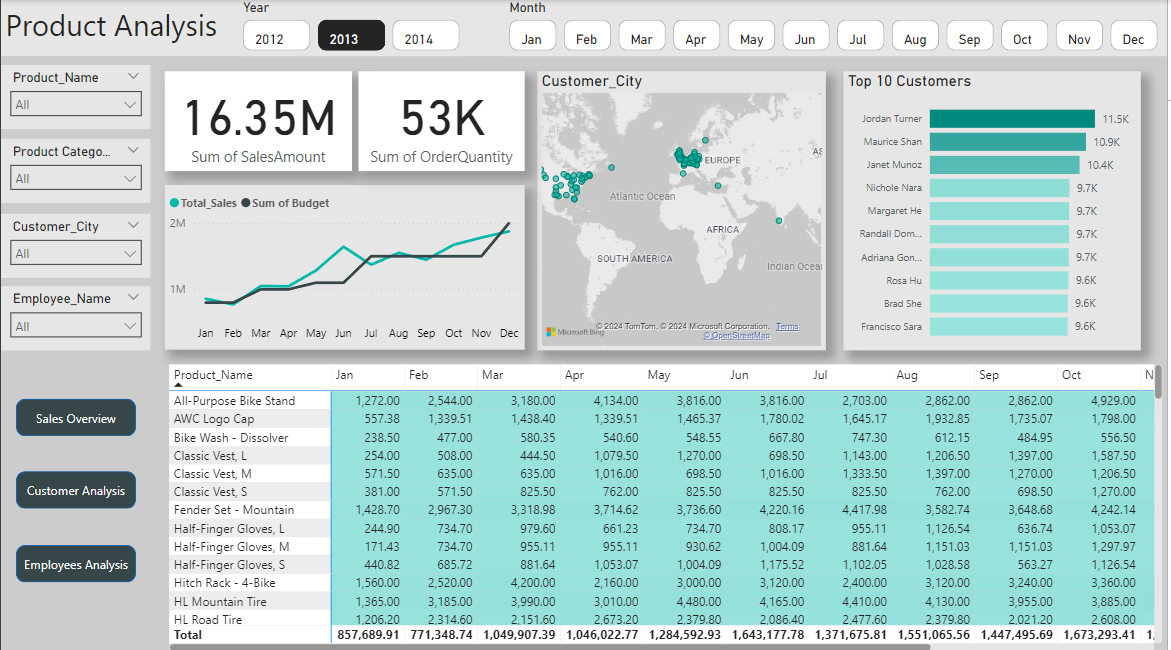

The page's visual inventory and layout, read from the dashboard file:
{"tool":"powerbi","page":{"name":"Product Analysis","canvas":[1280,720],"ordinal":1},"visuals":[{"type":"textbox","box":[0,0,1280,61.4],"z":0},{"type":"advancedSlicerVisual","fields":{"Values":["DIM_Date.Year"]},"box":[260.7,0,249.7,61.7],"z":1000},{"type":"advancedSlicerVisual","fields":{"Values":["Sorted_Months.Month"]},"box":[553,0,727.3,61.7],"z":2000},{"type":"slicer","fields":{"Values":["DIM_Products.Product_Name"]},"box":[0,71.4,164.3,70],"z":3000},{"type":"slicer","fields":{"Values":["DIM_Cusomers.Customer_City"]},"box":[0,234.3,164.3,70],"z":4000},{"type":"slicer","fields":{"Values":["DIM_Employees.Full_Name"]},"box":[0,314.3,164.3,70],"z":5000},{"type":"slicer","fields":{"Values":["DIM_Products.Category"]},"box":[0,152.9,164.3,70],"z":6000},{"type":"card","title":"Total Sales","fields":{"Values":["Sum(Fact_Internet_Sales.SalesAmount)"]},"box":[179.8,78.2,205.8,109.8],"z":7000},{"type":"clusteredBarChart","title":"Top 10 Customers","fields":{"Category":["DIM_Cusomers.Full_Name"],"Y":["Fact_Internet_Sales.Total_Sales"]},"box":[924.9,78.2,326.6,306],"z":8000},{"type":"map","fields":{"Category":["DIM_Cusomers.Customer_City"]},"box":[588.7,78.2,317,306],"z":9000},{"type":"lineChart","fields":{"Category":["Sorted_Months.Month"],"Y":["Fact_Internet_Sales.Total_Sales"],"Y2":["Sum(Budget.Budget)"]},"box":[179.8,203.1,395.2,181.1],"z":10000},{"type":"card","fields":{"Values":["Sum(Fact_Internet_Sales.OrderQuantity)"]},"box":[392.5,78.2,182.5,109.8],"z":11000},{"type":"pivotTable","fields":{"Rows":["DIM_Products.Product_Name"],"Columns":["Sorted_Months.Month"],"Values":["Fact_Internet_Sales.Total_Sales"]},"box":[179.8,395.2,1100.5,325.2],"z":12000},{"type":"shape","box":[16.5,437.7,131.7,41.2],"z":13000},{"type":"shape","box":[16.5,517.3,131.7,41.2],"z":14000},{"type":"shape","box":[16.5,598.3,131.7,41.2],"z":15000}]}

Visuals, with their boxes in screenshot pixels (x1, y1, x2, y2), scaled from the page's 1280x720 canvas onto the 1171x650 screenshot:
textbox: 0/0/1170/55
advancedSlicerVisual - DIM_Date.Year: 238/0/467/56
advancedSlicerVisual - Sorted_Months.Month: 506/0/1170/56
slicer - DIM_Products.Product_Name: 0/64/150/128
slicer - DIM_Cusomers.Customer_City: 0/212/150/275
slicer - DIM_Employees.Full_Name: 0/284/150/347
slicer - DIM_Products.Category: 0/138/150/201
"Total Sales" card: 164/71/353/170
"Top 10 Customers" clusteredBarChart: 846/71/1145/347
map - DIM_Cusomers.Customer_City: 539/71/829/347
lineChart - Sorted_Months.Month x Fact_Internet_Sales.Total_Sales: 164/183/526/347
card - Sum(Fact_Internet_Sales.OrderQuantity): 359/71/526/170
pivotTable - DIM_Products.Product_Name x Sorted_Months.Month: 164/357/1170/649
shape: 15/395/136/432
shape: 15/467/136/504
shape: 15/540/136/577
